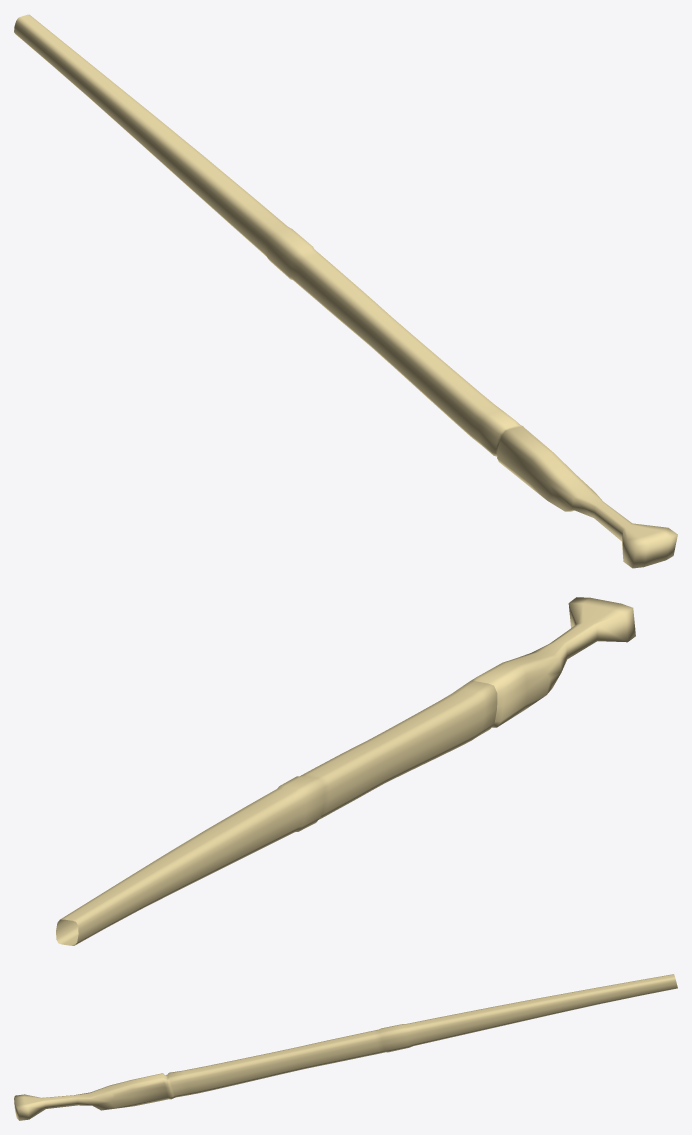
Rendered from glasses_11_temple_right.obj.
3 renders of one model, top to bottom at view 1: azimuth 30°, elevation 25°; view 2: azimuth 150°, elevation 25°; view 3: azimuth 270°, elevation 25°, orthographic. The views are drawn at different scales.
Visible parts, largest first — view 1: Cube.002; view 2: Cube.002; view 3: Cube.002.
Part boxes in pixels (x1=…): Cube.002: x1=14, y1=14, x2=677, y2=568; Cube.002: x1=56, y1=597, x2=635, y2=945; Cube.002: x1=14, y1=974, x2=677, y2=1120.
Size of the model in its own units: 0.00595 by 0.00789 by 0.043.
